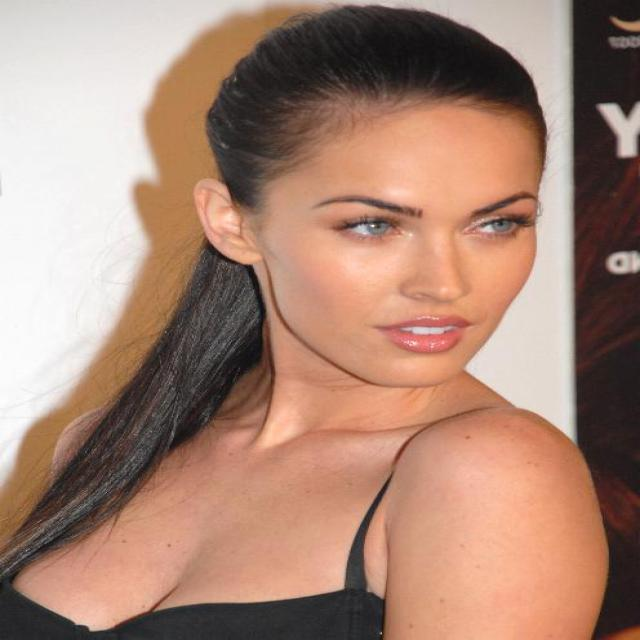no-earmuff: (176, 163, 286, 285)
